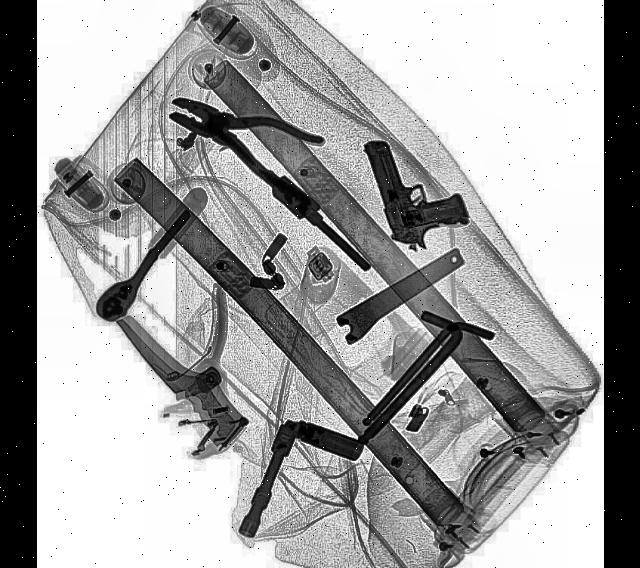Gun: (363, 114, 473, 264)
Pliers: (160, 74, 334, 214)
